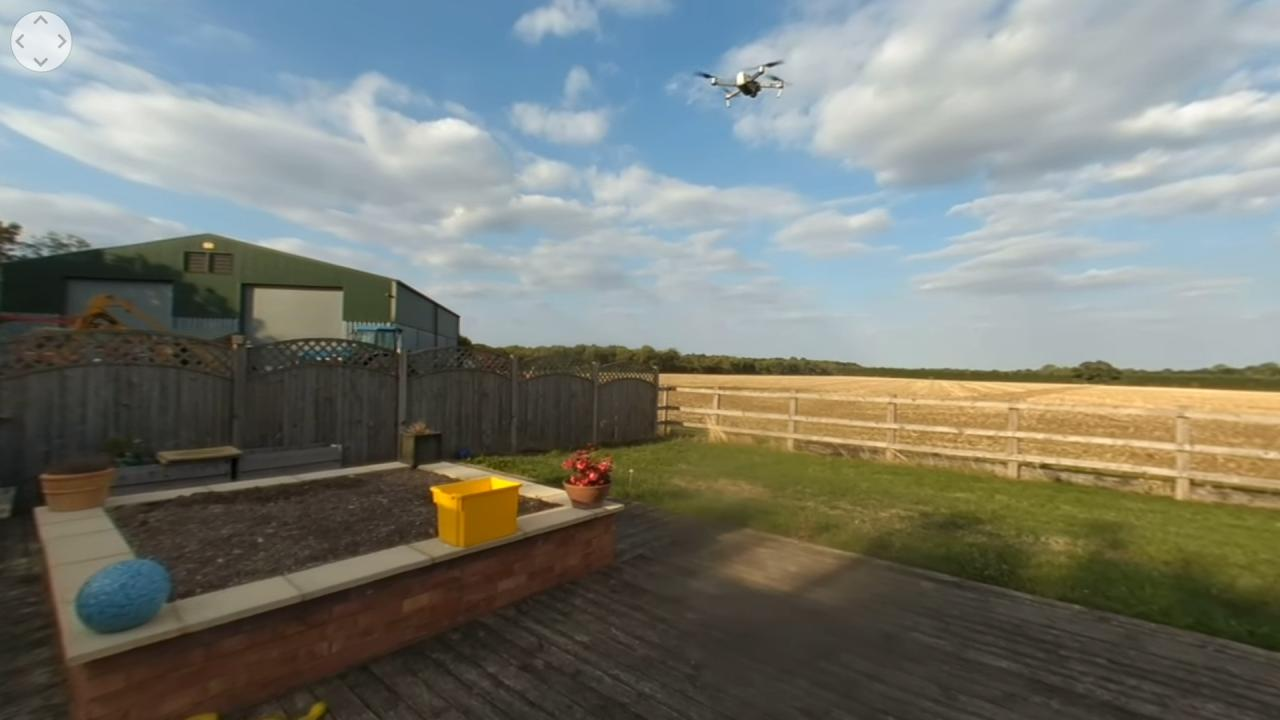Drone: (686, 50, 800, 112)
